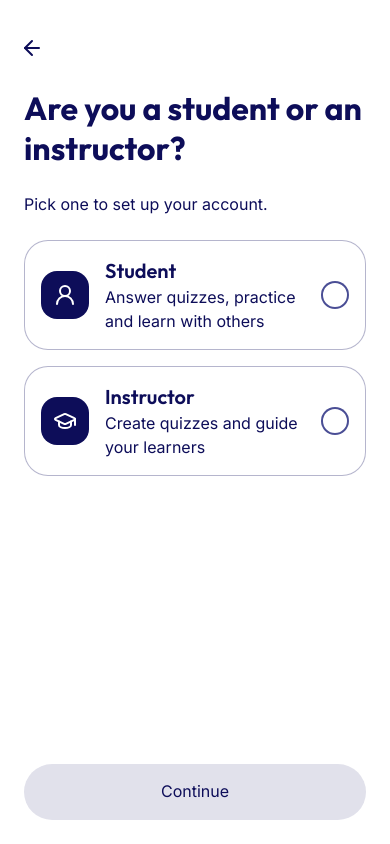
Test case: phone role screen › keeps Continue disabled until a card is chosen, then selects with a click
This screenshot has width=390, height=844.
Check: the button "Continue" is disabled, box [24,764,366,820]
Step 1. Click the radio button labelled "Student Answer quizzes, practice and learn with others" → (195, 295), box [24,240,366,350]
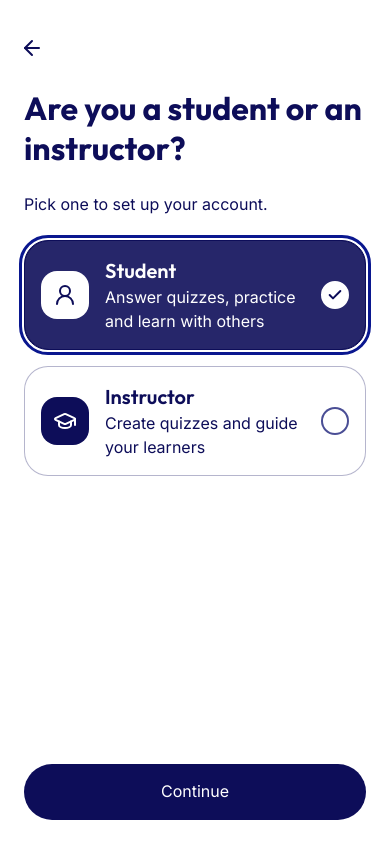
Check: the radio button labelled "Instructor Create quizzes and guide your learners" is not checked, box [24,366,366,476]
Check: the radio button labelled "Student Answer quizzes, practice and learn with others" is checked, box [24,240,366,350]
Check: the button "Continue" is enabled, box [24,764,366,820]
